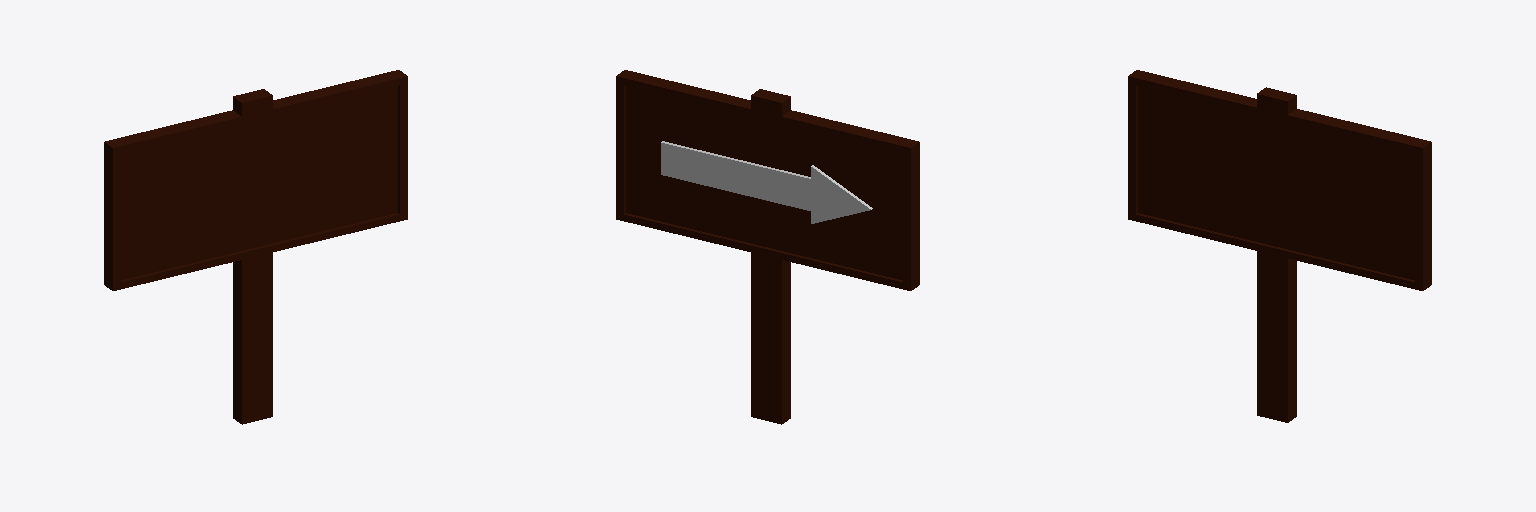
File: signpost_arrow.obj
3 views of the same model, side by side, from view 1: azimuth 30°, elevation 25°; view 2: azimuth 150°, elevation 25°; view 3: azimuth 330°, elevation 25° (orthographic).
Visible parts, largest first — view 1: signpost; view 2: signpost; view 3: signpost.
Part boxes in pixels (x1,y1,x2,y2): signpost: (104, 70, 407, 424); signpost: (616, 70, 919, 424); signpost: (1128, 70, 1431, 422).
Bounding box in the file's own units: 1.9 × 1.98 × 0.1.